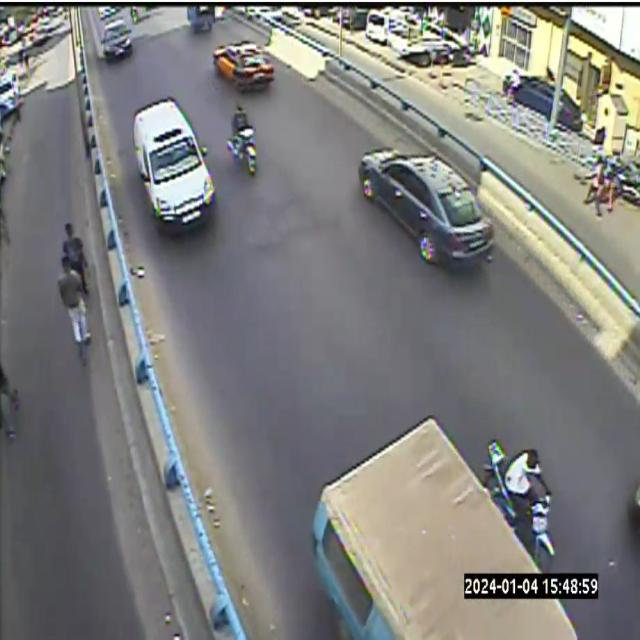car: (313, 417, 577, 639), (359, 148, 493, 263), (133, 97, 216, 229), (212, 40, 274, 90), (100, 18, 131, 60)
